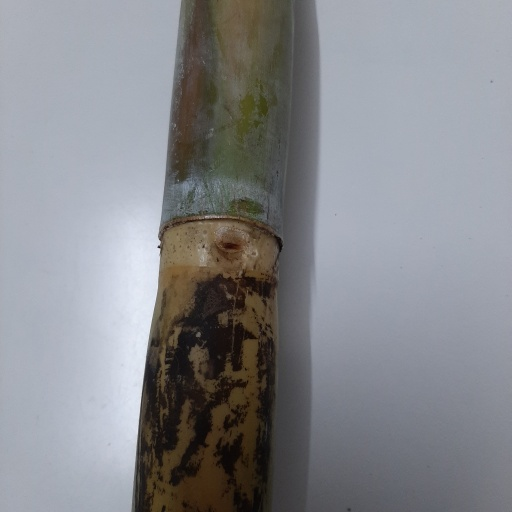Damage_Bud: (214, 230, 245, 261)
